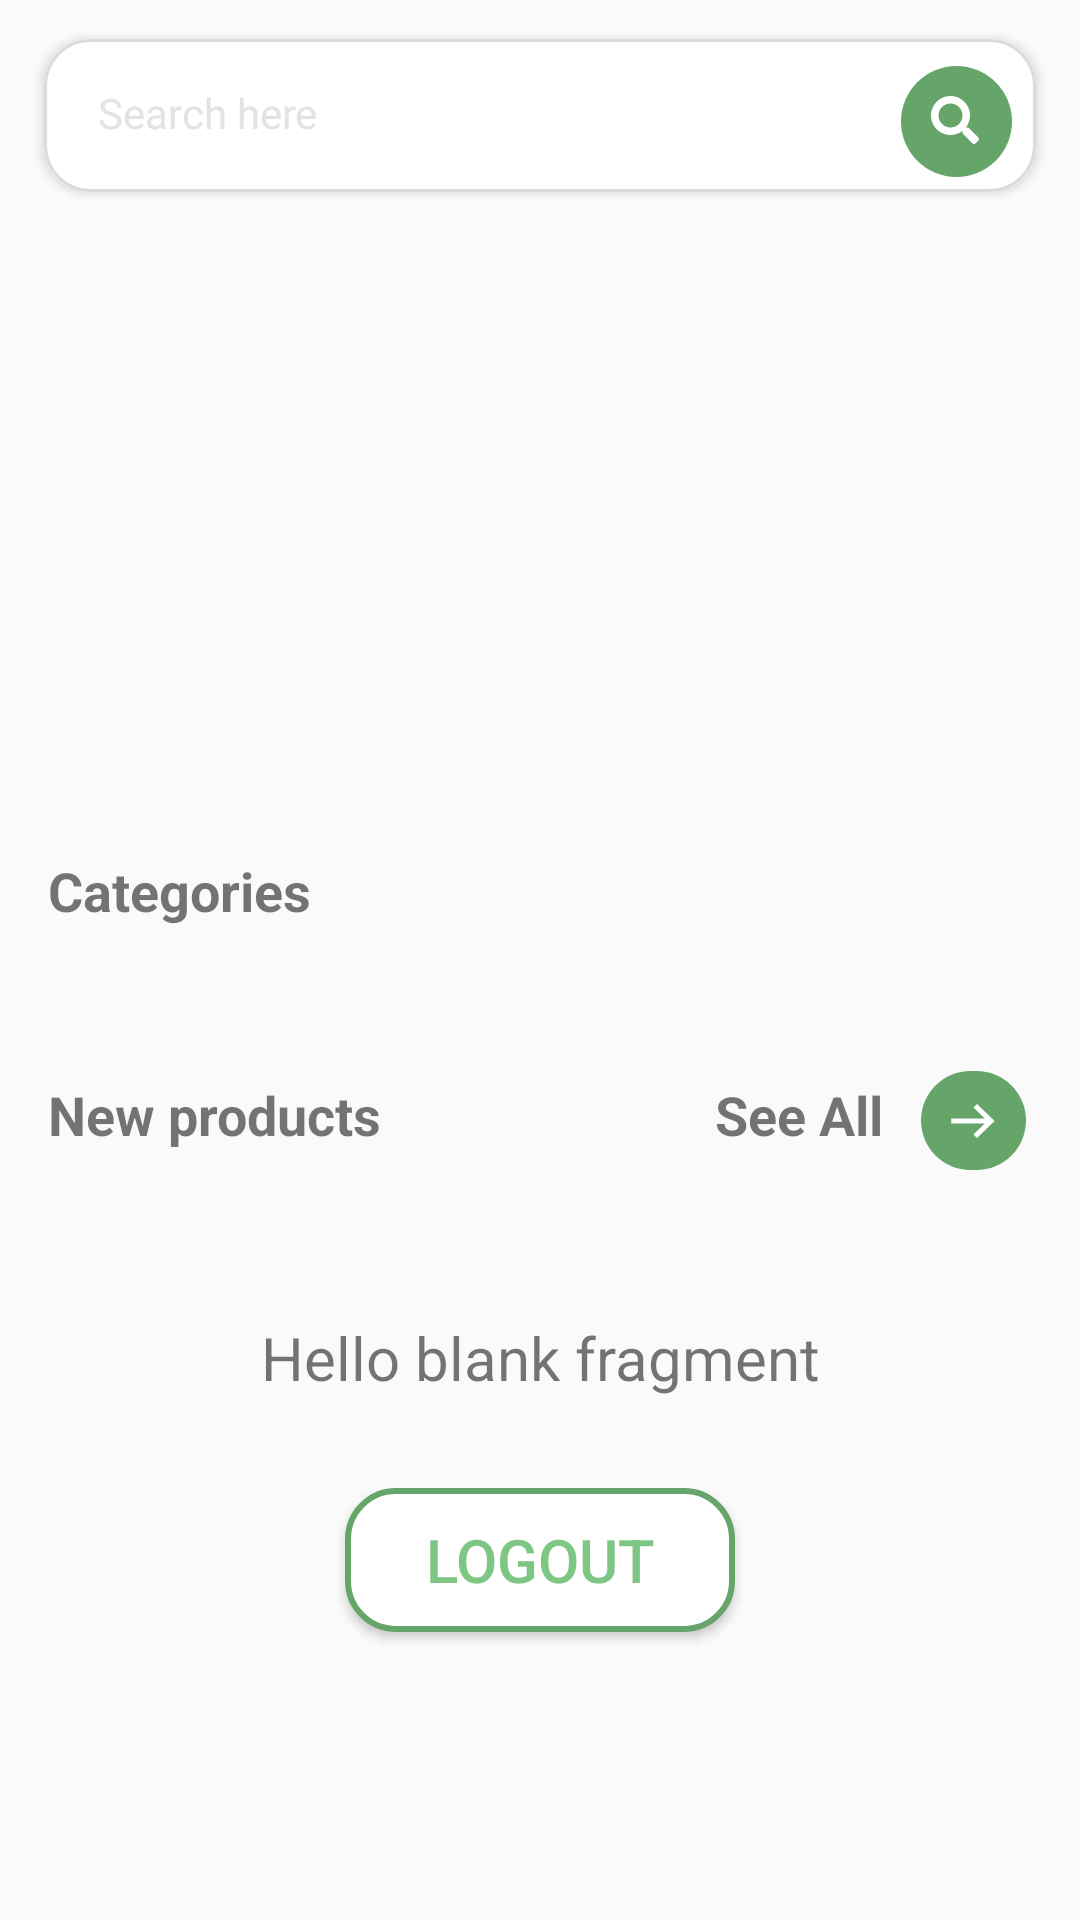

Locate icon controls on the screen. Image size 1080x1920, boxes as (x1, y1, x2, y2).
arrow: (951, 1104, 995, 1138)
